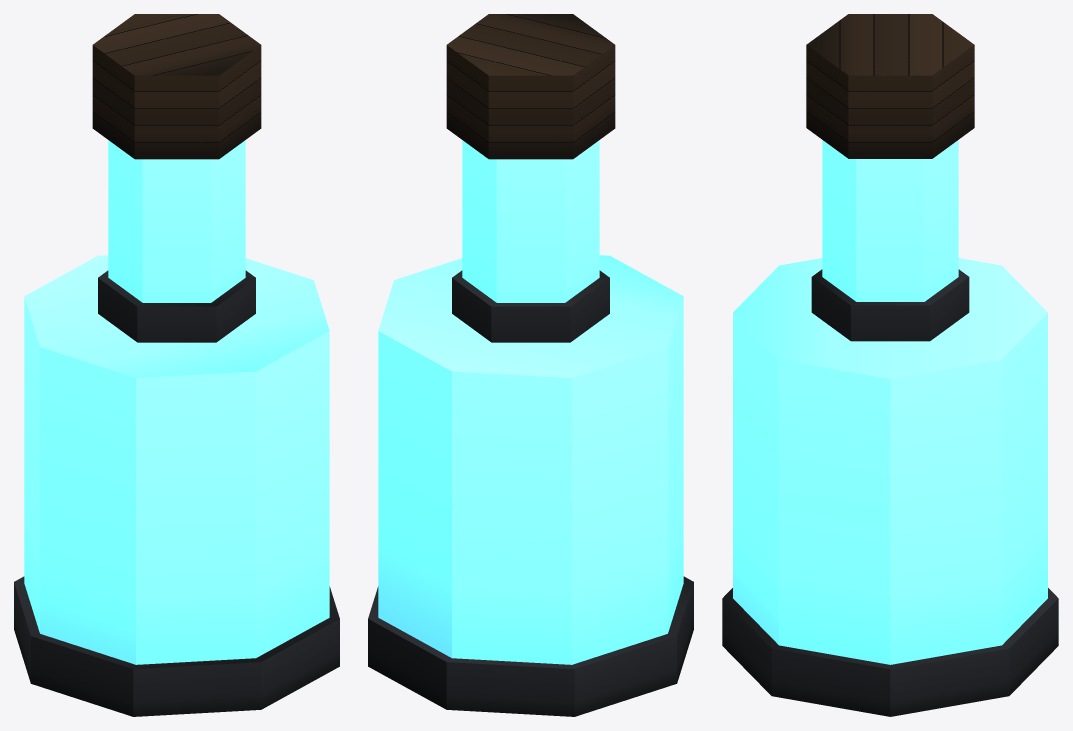
Rendered from potion_blue.gltf.
The picture shows the model from 3 angles, left to right: view 1: azimuth 30°, elevation 25°; view 2: azimuth 150°, elevation 25°; view 3: azimuth 270°, elevation 25°; orthographic projection.
Visible parts, largest first — view 1: potion_blue; view 2: potion_blue; view 3: potion_blue.
Part boxes in pixels (<box>): potion_blue: <box>14,14,339,716</box>; potion_blue: <box>368,14,693,716</box>; potion_blue: <box>722,14,1058,716</box>.
Size of the model in its own units: 0.128 by 0.2525 by 0.128.
Materials: 1 (1 with a texture image).
